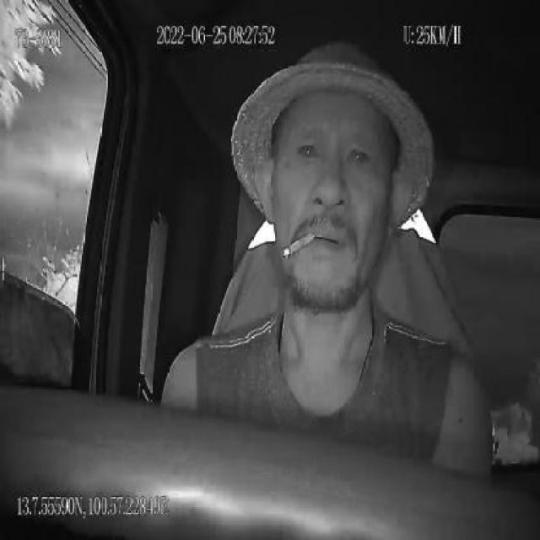smoking: (281, 226, 316, 258)
